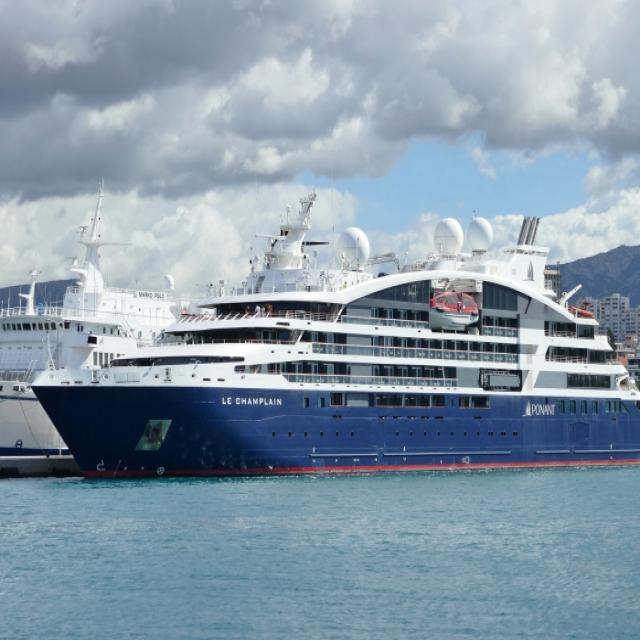cruises: (26, 190, 640, 473)
